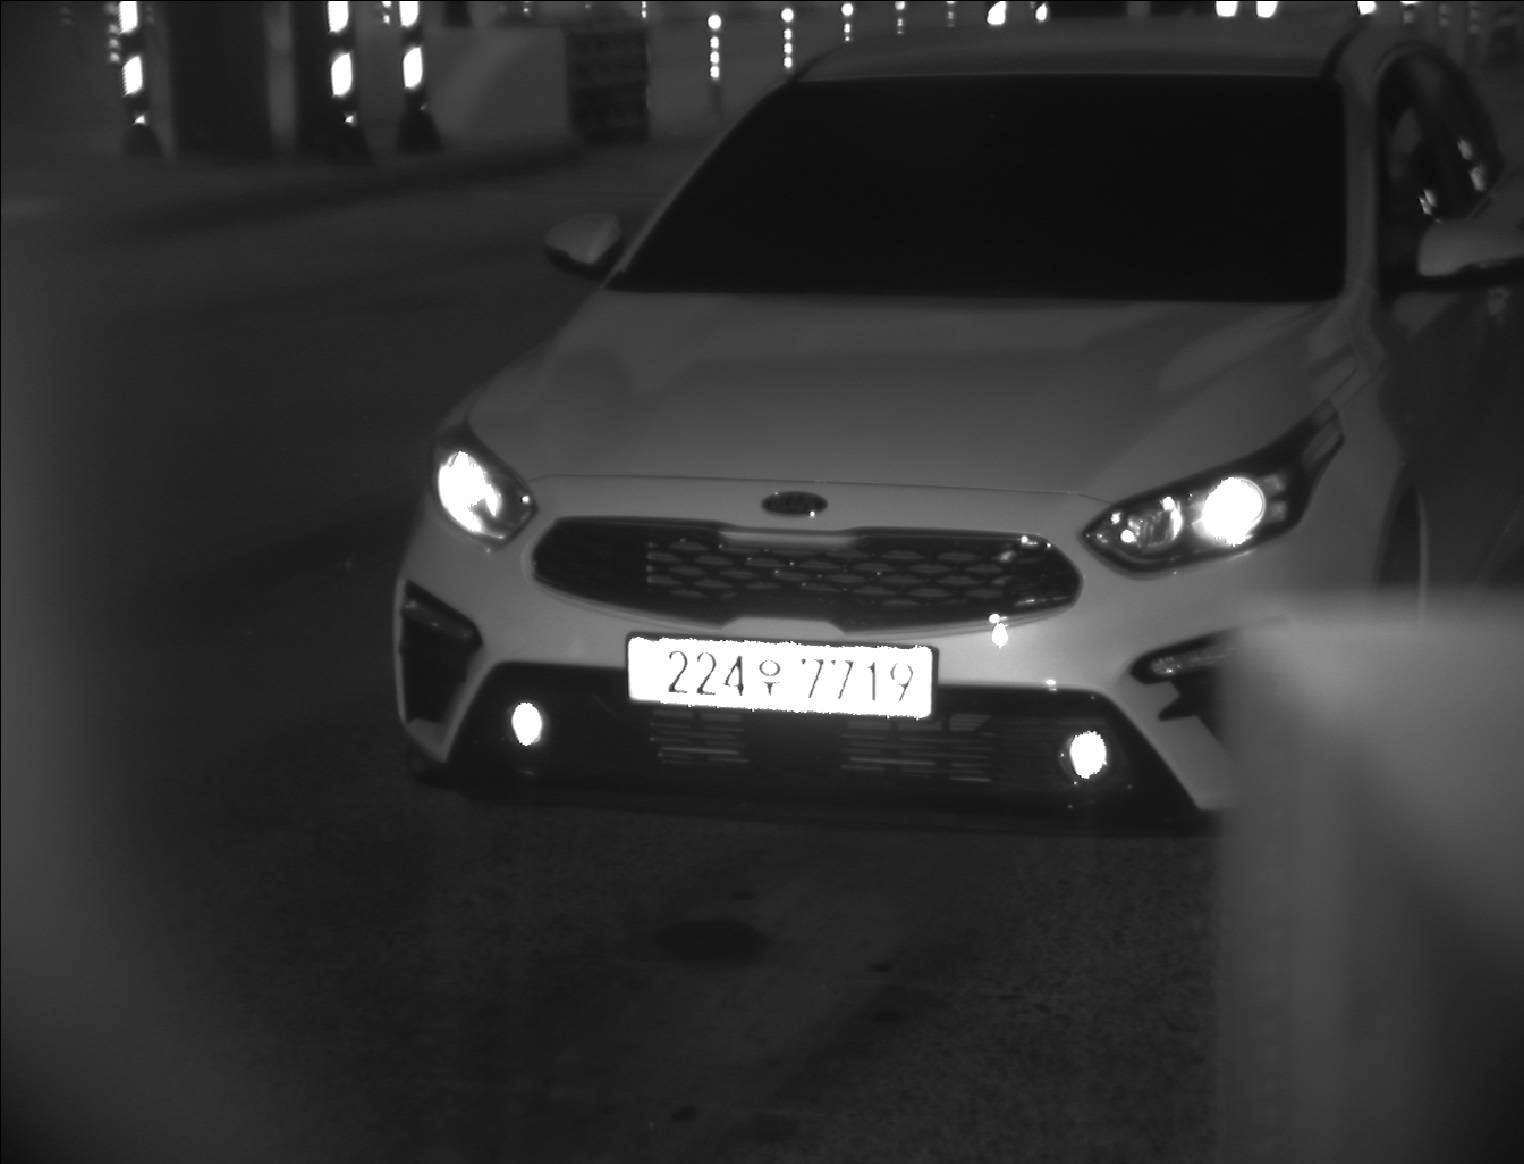car: (390, 11, 1524, 849)
plate: (621, 629, 943, 725)
